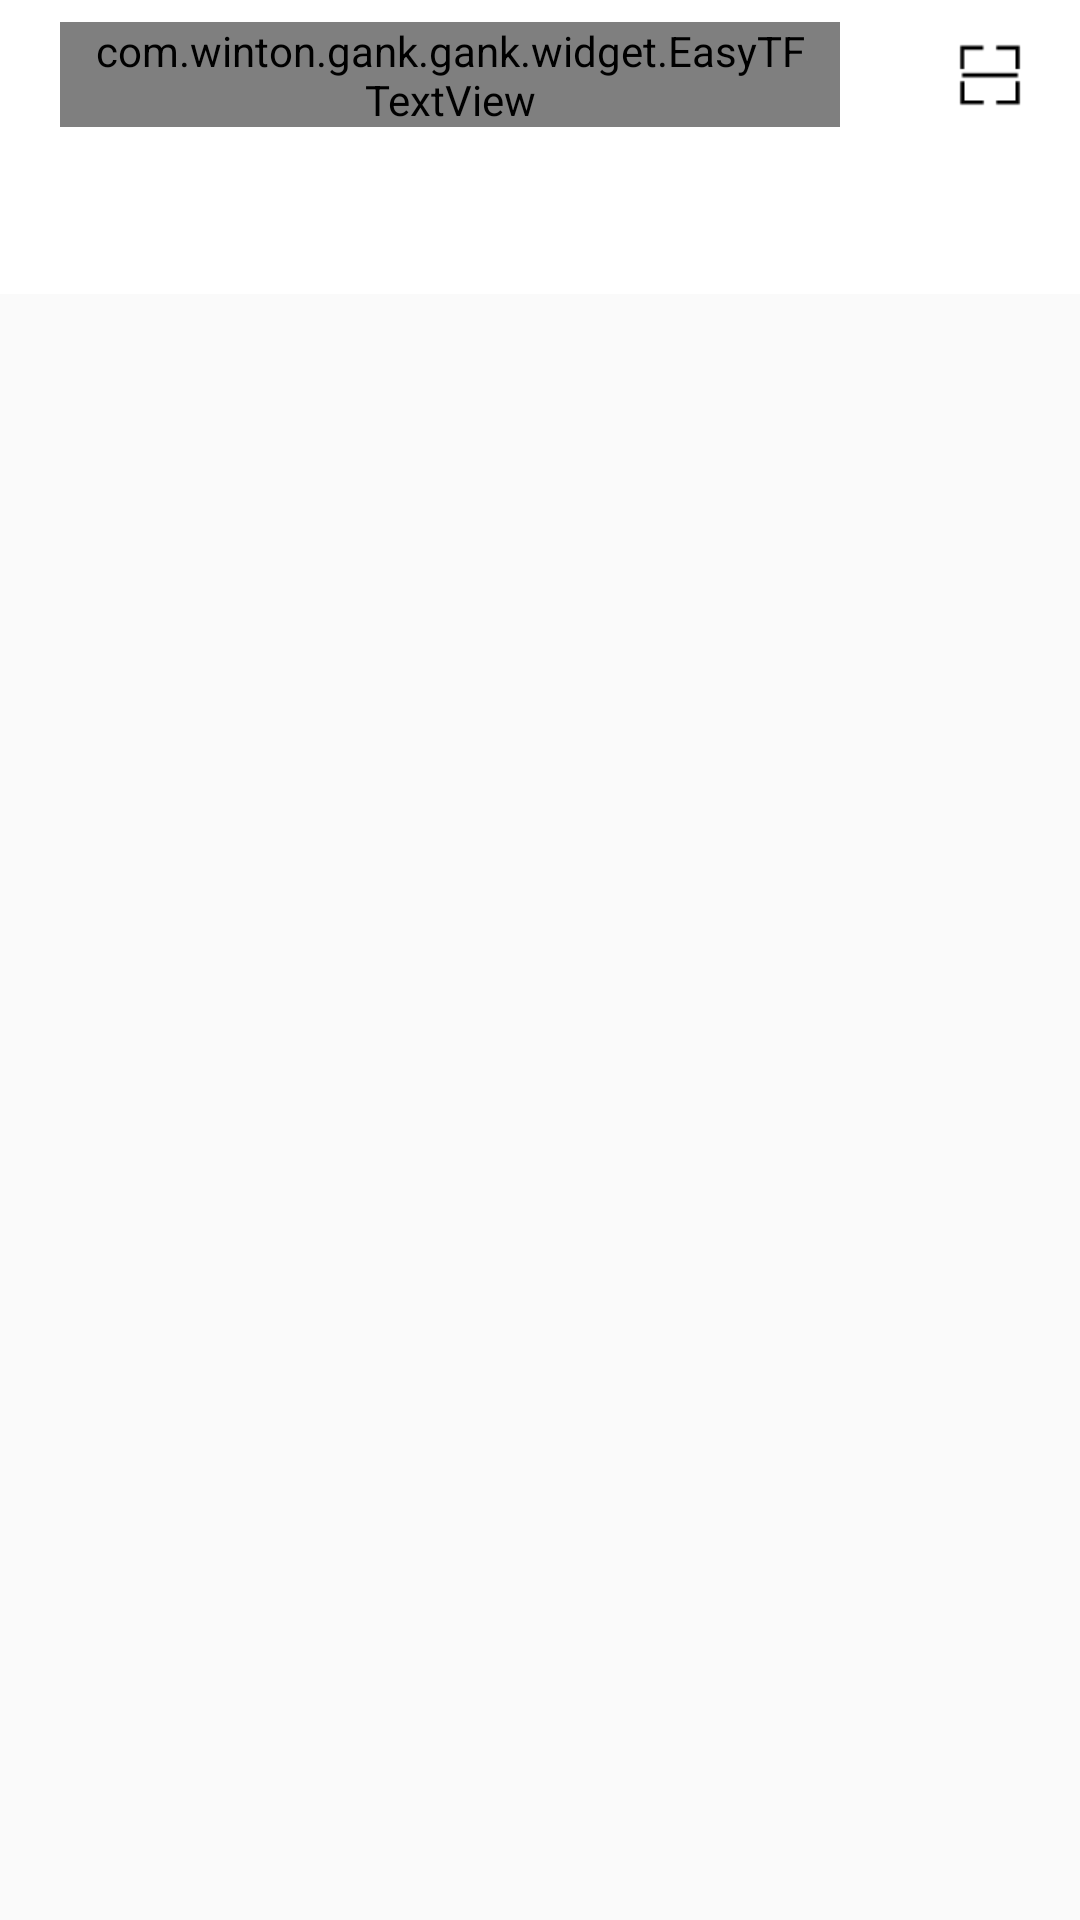

Icon bounding boxes for this 1080px×1920px phone screenshot, format {"left": x1, "top": y1, "right": x2, "bottom": y2}:
scan: {"left": 959, "top": 45, "right": 1021, "bottom": 105}
